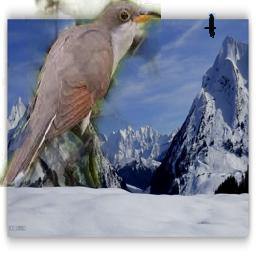Crow: (204, 14, 216, 39)
Cuckoo: (1, 1, 162, 188)
